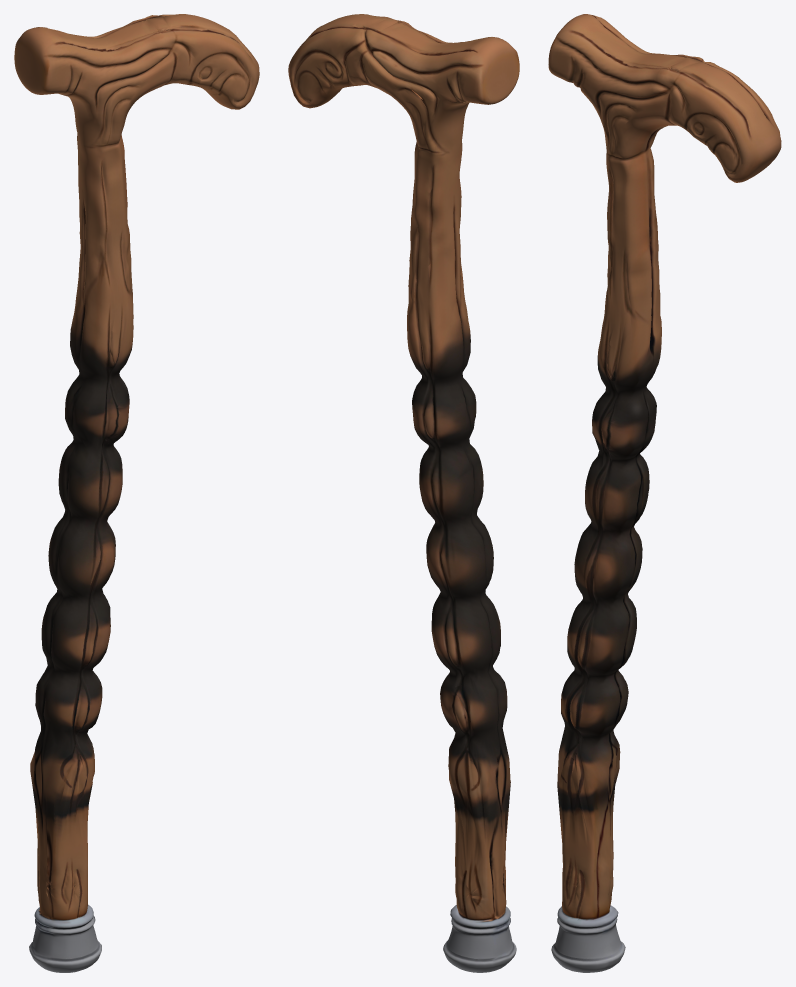
File: cane_grand.fbx
The picture shows the model from 3 angles, left to right: view 1: azimuth 30°, elevation 25°; view 2: azimuth 150°, elevation 25°; view 3: azimuth 330°, elevation 25°; orthographic projection.
Parts seen in each view (by area): view 1: tripo_node_15077f35; view 2: tripo_node_15077f35; view 3: tripo_node_15077f35.
Boxes of the visible parts, x1,y1,x2,y2 form: tripo_node_15077f35: [14, 14, 259, 972]; tripo_node_15077f35: [288, 14, 519, 972]; tripo_node_15077f35: [548, 14, 781, 972].
Bounding box in the file's own units: 537 × 2190 × 185.
Materials: 1 (1 with a texture image).
